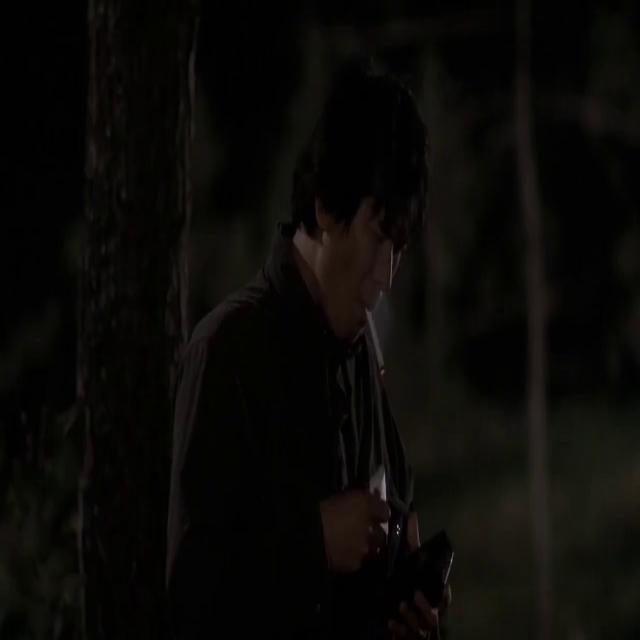Smooking: (366, 306, 390, 387)
